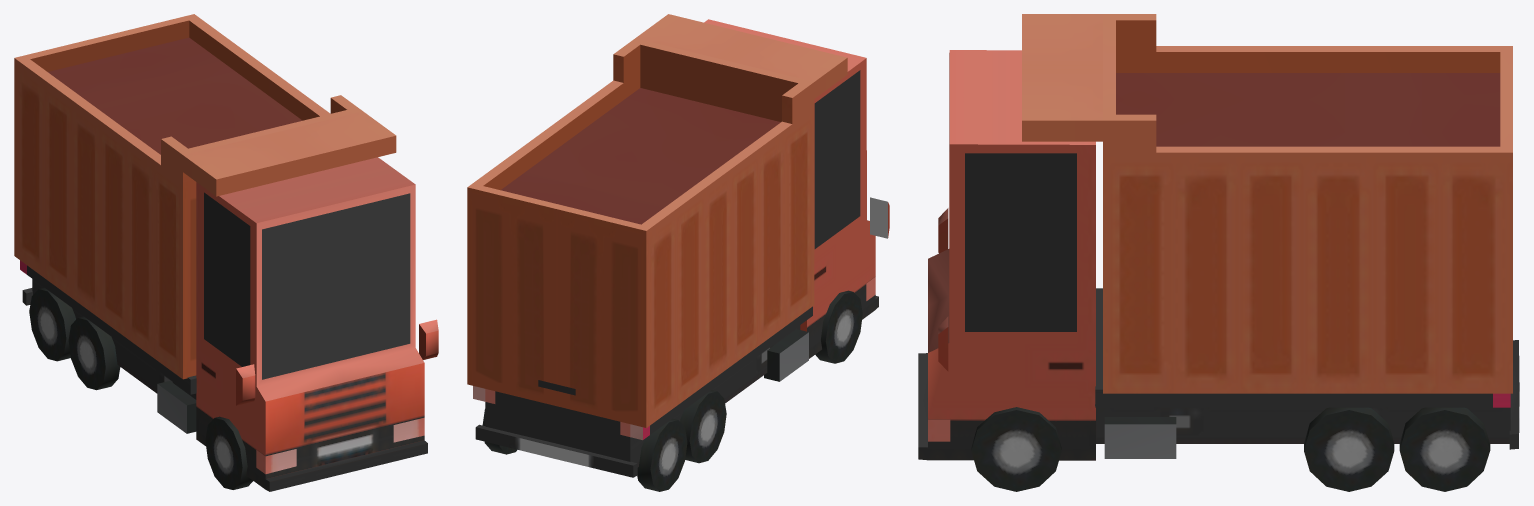
File: vehicle2.FBX
3 renders of one model, left to right at view 1: azimuth 30°, elevation 25°; view 2: azimuth 150°, elevation 25°; view 3: azimuth 270°, elevation 25°, orthographic. The views are drawn at different scales.
Visible parts, largest first — view 1: Vehicle2; view 2: Vehicle2; view 3: Vehicle2.
Part boxes in pixels (box(x1,y1,x2,y2)): Vehicle2: box(14, 14, 438, 491); Vehicle2: box(467, 14, 889, 491); Vehicle2: box(918, 14, 1519, 491).
Bounding box in the file's own units: 3.44 × 5.04 × 7.33.
